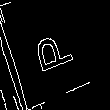P_W: (31, 29, 79, 81)
